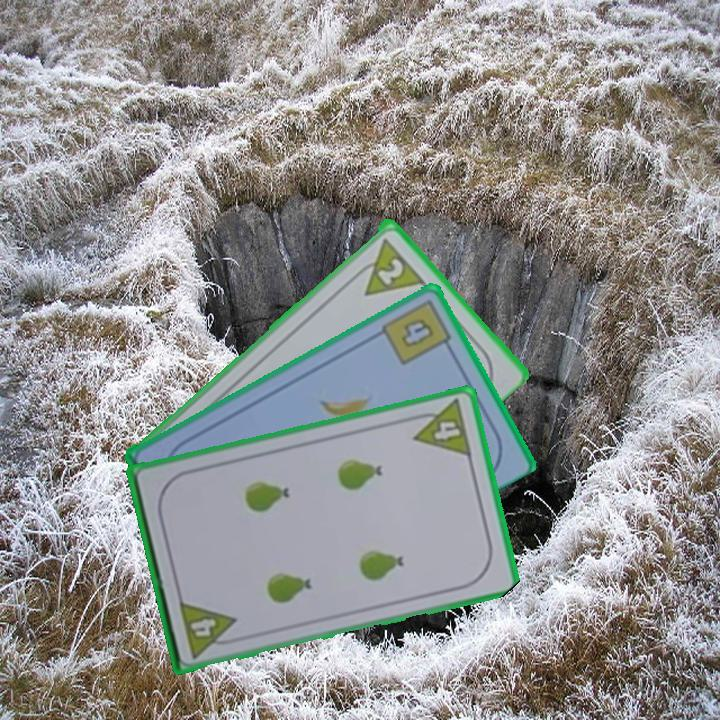2p: (373, 254, 407, 288)
4b: (378, 295, 456, 368)
4p: (406, 396, 475, 460), (175, 597, 242, 661)
